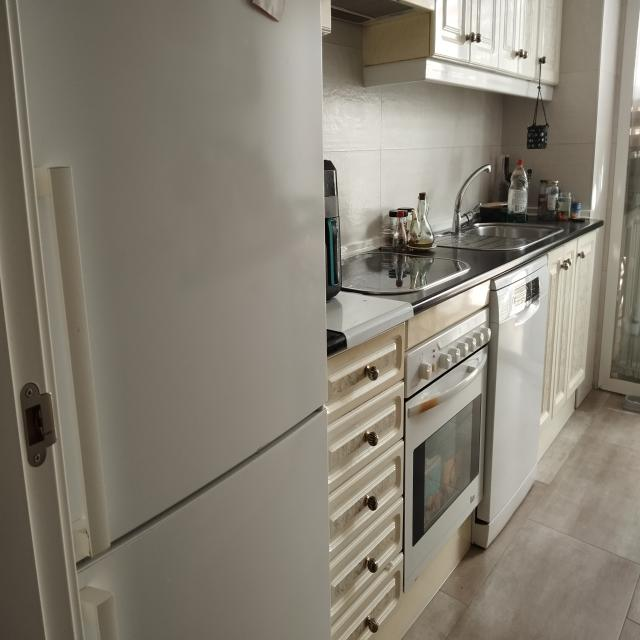cabinet: (326, 322, 407, 640), (362, 0, 564, 101), (537, 231, 596, 462)
countertop: (327, 218, 604, 356)
fridge: (0, 0, 331, 640)
oven: (403, 306, 491, 592)
shower: (436, 165, 564, 251)
sofa: (342, 250, 471, 293)
